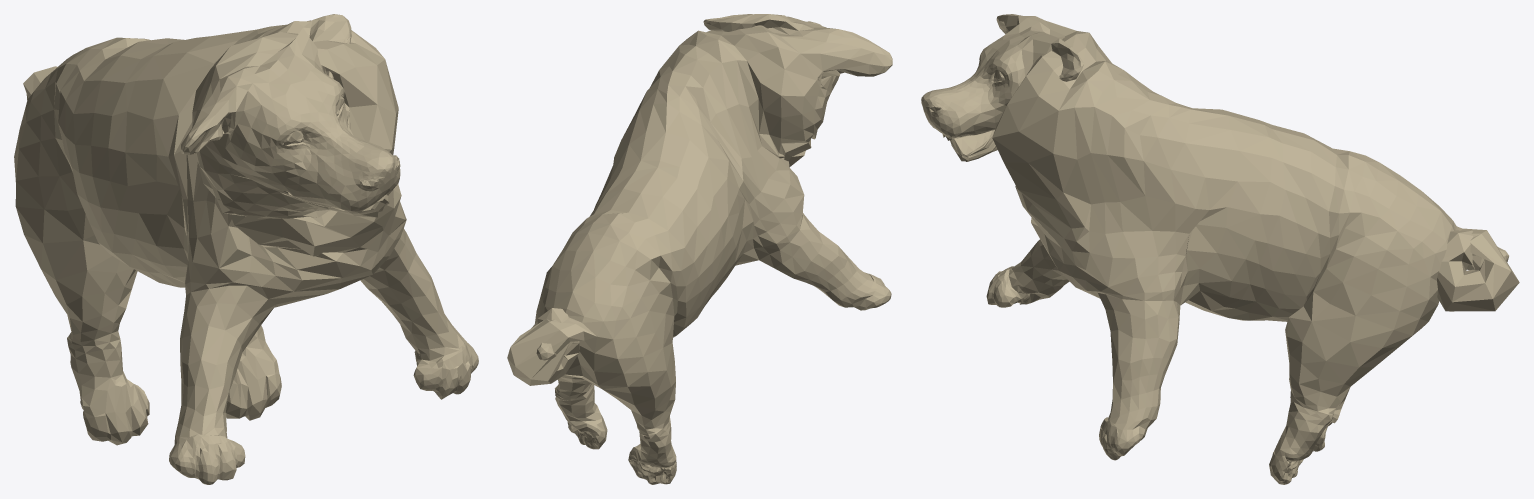
3 views of the same model, side by side, from view 1: azimuth 30°, elevation 25°; view 2: azimuth 150°, elevation 25°; view 3: azimuth 270°, elevation 25° (orthographic). The views are drawn at different scales.
Visible parts, largest first — view 1: world; view 2: world; view 3: world.
Boxes of the visible parts, x1,y1,x2,y2 form: world: (14,14,478,484); world: (507,14,892,484); world: (921,14,1519,484).
Size of the model in its own units: 0.6159 by 0.8334 by 1.08.
